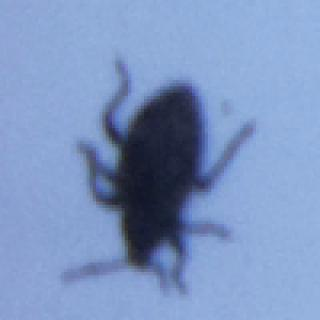bvw: (62, 58, 257, 295)
